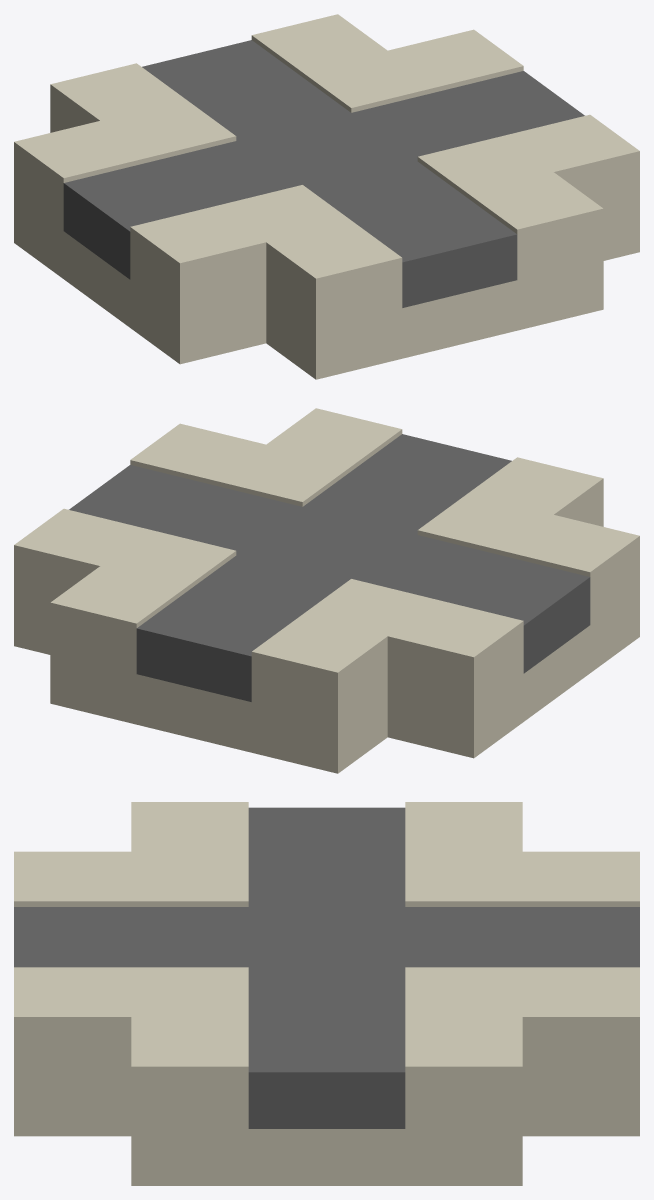
Rendered from tile129.dae.
The picture shows the model from 3 angles, top to bottom: view 1: azimuth 30°, elevation 25°; view 2: azimuth 150°, elevation 25°; view 3: azimuth 270°, elevation 25°; orthographic projection. The views are drawn at different scales.
Parts seen in each view (by area): view 1: tile129; view 2: tile129; view 3: tile129.
Boxes of the visible parts, left/top/right/bottom form: tile129: left=14, top=14, right=639, bottom=379; tile129: left=14, top=408, right=639, bottom=773; tile129: left=14, top=802, right=639, bottom=1185.
Size of the model in its own units: 1 by 0.21 by 1.
